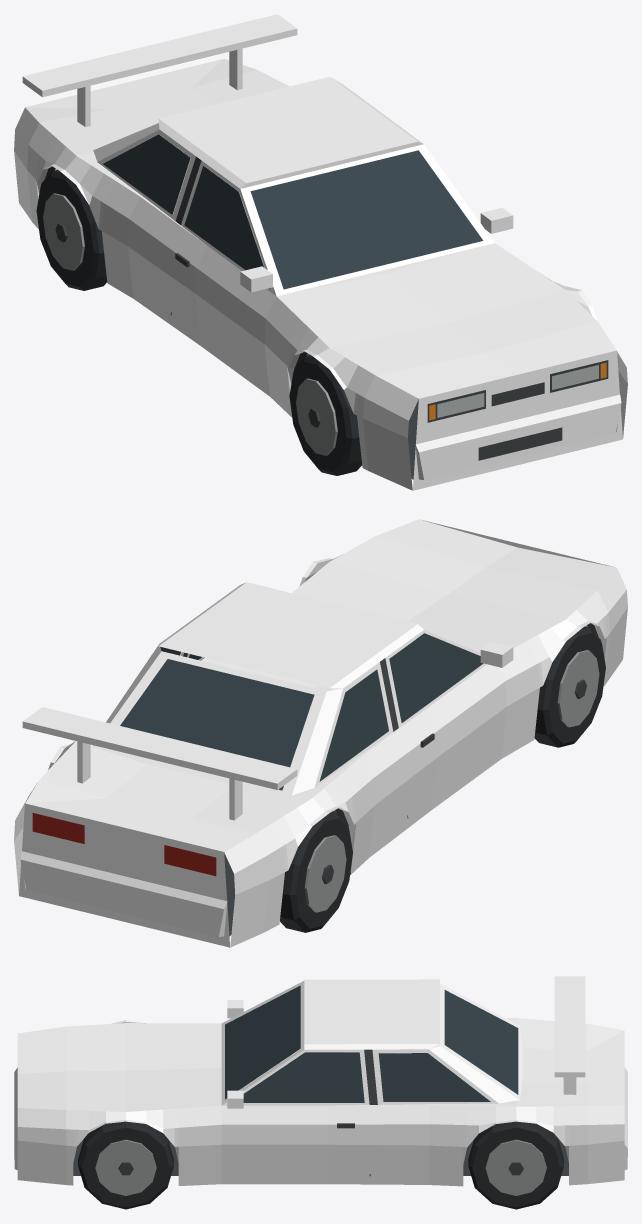
File: garrison_arroyo_corrida_ii.glb
3 views of the same model, one above another, from view 1: azimuth 30°, elevation 25°; view 2: azimuth 150°, elevation 25°; view 3: azimuth 270°, elevation 25° (orthographic). The views are drawn at different scales.
Visible parts, largest first — view 1: garrison_arroyo_corrida_ii; view 2: garrison_arroyo_corrida_ii; view 3: garrison_arroyo_corrida_ii.
Part boxes in pixels (x1,y1,x2,y2): garrison_arroyo_corrida_ii: [14, 14, 627, 490]; garrison_arroyo_corrida_ii: [14, 519, 627, 947]; garrison_arroyo_corrida_ii: [14, 976, 627, 1209].
Bounding box in the file's own units: 1.73 × 1.19 × 4.42.
Materials: 8 (1 with a texture image).
